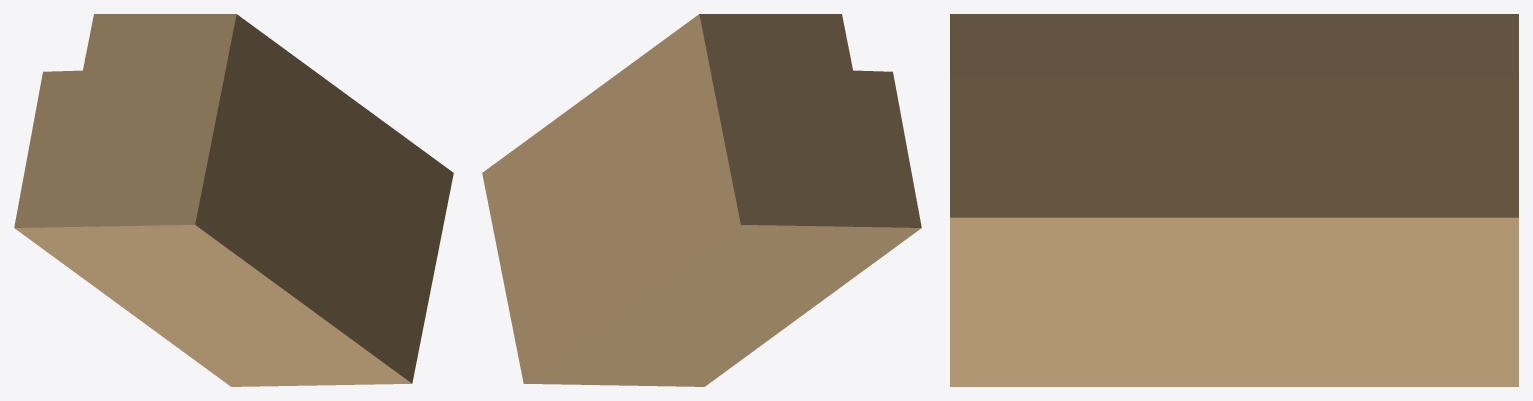
The picture shows the model from 3 angles, left to right: view 1: azimuth 30°, elevation 25°; view 2: azimuth 150°, elevation 25°; view 3: azimuth 270°, elevation 25°; orthographic projection. The views are drawn at different scales.
Visible parts, largest first — view 1: 0_3_1_3_3_2_3_2_1_1; view 2: 0_3_1_3_3_2_3_2_1_1; view 3: 0_3_1_3_3_2_3_2_1_1.
Boxes of the visible parts, left/top/right/bottom form: 0_3_1_3_3_2_3_2_1_1: left=14, top=14, right=453, bottom=386; 0_3_1_3_3_2_3_2_1_1: left=482, top=14, right=921, bottom=386; 0_3_1_3_3_2_3_2_1_1: left=950, top=14, right=1518, bottom=386.
Size of the model in its own units: 14.2 by 14.36 by 24.
